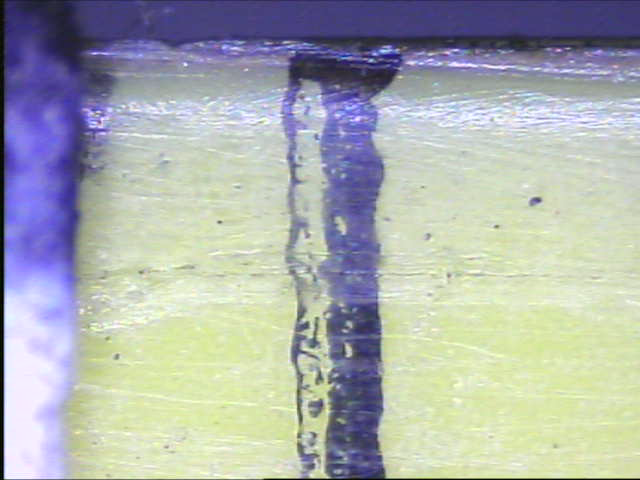line: (280, 48, 407, 477)
